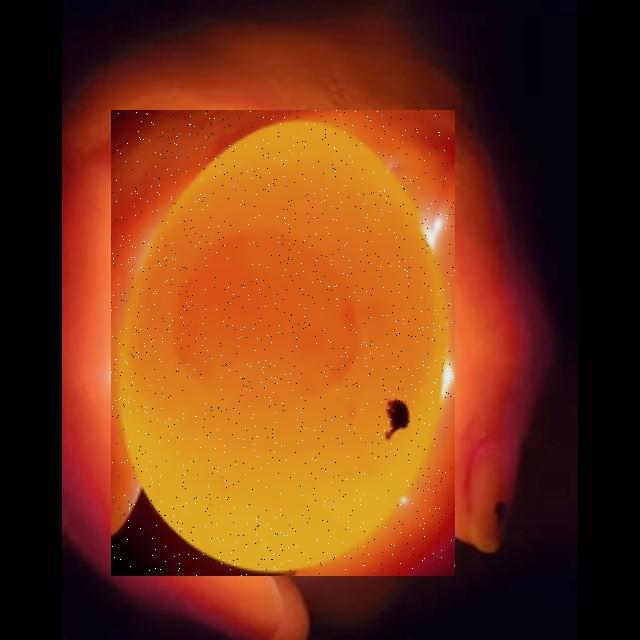Infertile: (111, 110, 455, 576)
